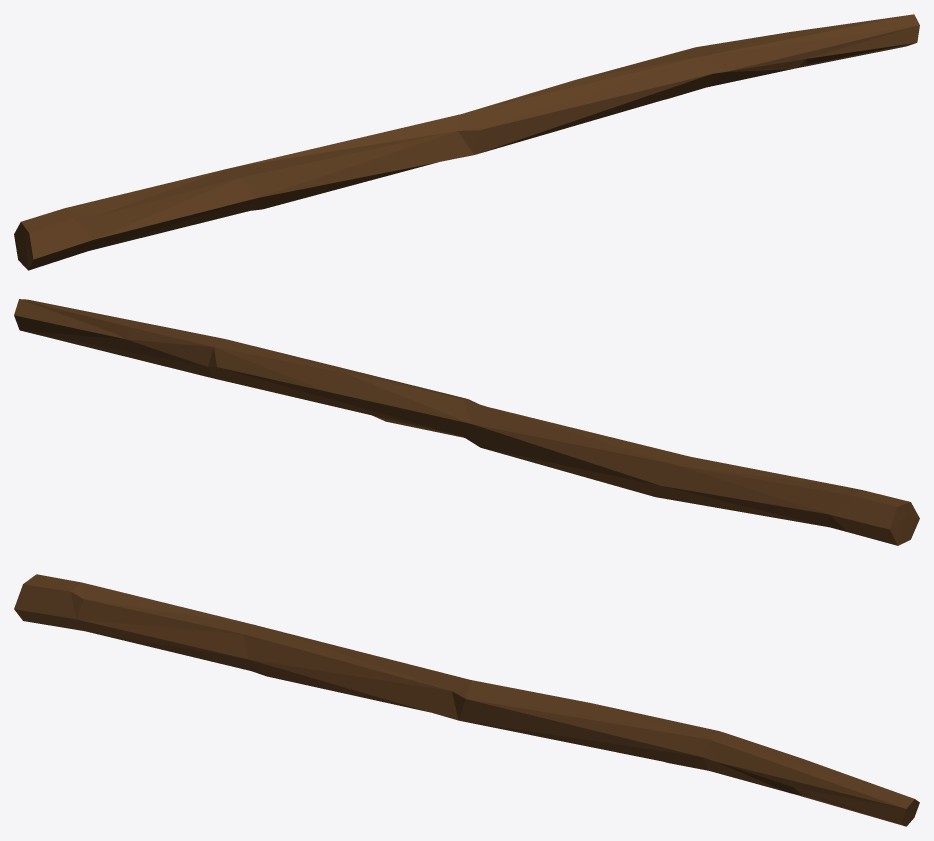
Rendered from tree-birch-log-a.gltf.
3 renders of one model, top to bottom at view 1: azimuth 30°, elevation 25°; view 2: azimuth 150°, elevation 25°; view 3: azimuth 330°, elevation 25°, orthographic.
Parts seen in each view (by area): view 1: tree-birch-log-a; view 2: tree-birch-log-a; view 3: tree-birch-log-a.
Part boxes in pixels (x1,y1,x2,y2): tree-birch-log-a: (14, 14, 919, 270); tree-birch-log-a: (14, 299, 919, 545); tree-birch-log-a: (14, 574, 919, 826).
Size of the model in its own units: 0.0489 by 0.00234 by 0.00301.
